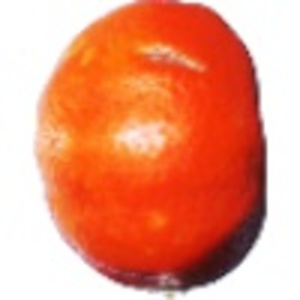tangerina: (33, 1, 269, 300)
